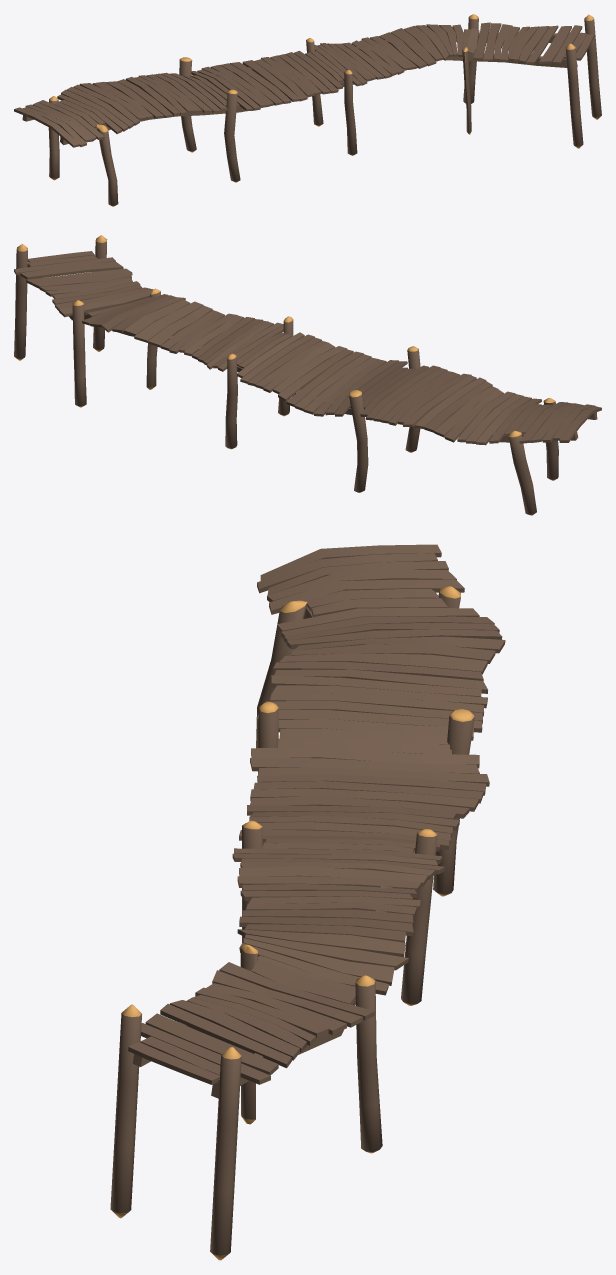
File: MobyInsideTown_Dock.fbx
3 renders of one model, top to bottom at view 1: azimuth 30°, elevation 25°; view 2: azimuth 150°, elevation 25°; view 3: azimuth 270°, elevation 25°, orthographic. The views are drawn at different scales.
Parts seen in each view (by area): view 1: Cube.027; view 2: Cube.027; view 3: Cube.027.
Boxes of the visible parts, x1,y1,x2,y2 form: Cube.027: [14, 14, 601, 206]; Cube.027: [14, 235, 601, 515]; Cube.027: [110, 544, 505, 1260].
Bounding box in the file's own units: 2519 × 479 × 808.
